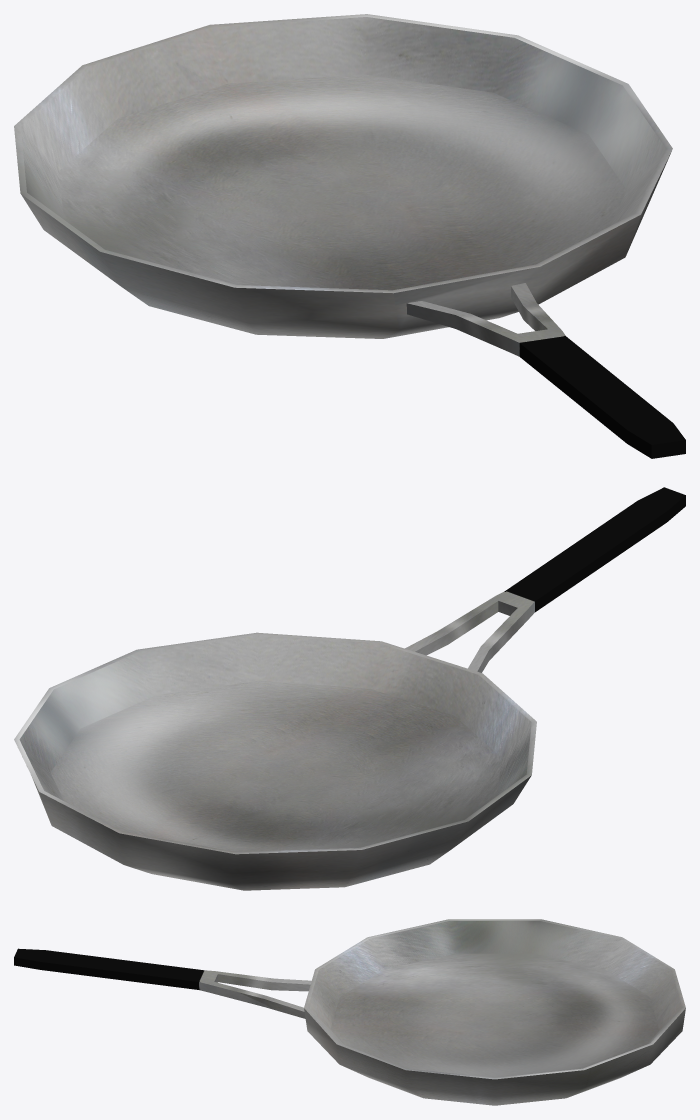
Rendered from pan.fbx.
3 renders of one model, top to bottom at view 1: azimuth 30°, elevation 25°; view 2: azimuth 150°, elevation 25°; view 3: azimuth 270°, elevation 25°, orthographic. The views are drawn at different scales.
Parts seen in each view (by area): view 1: pan; view 2: pan; view 3: pan.
Part boxes in pixels (<box>): pan: <box>14,14,685,458</box>; pan: <box>14,487,685,890</box>; pan: <box>14,919,685,1105</box>.
Bounding box in the file's own units: 35.1 × 6.5 × 62.2.
